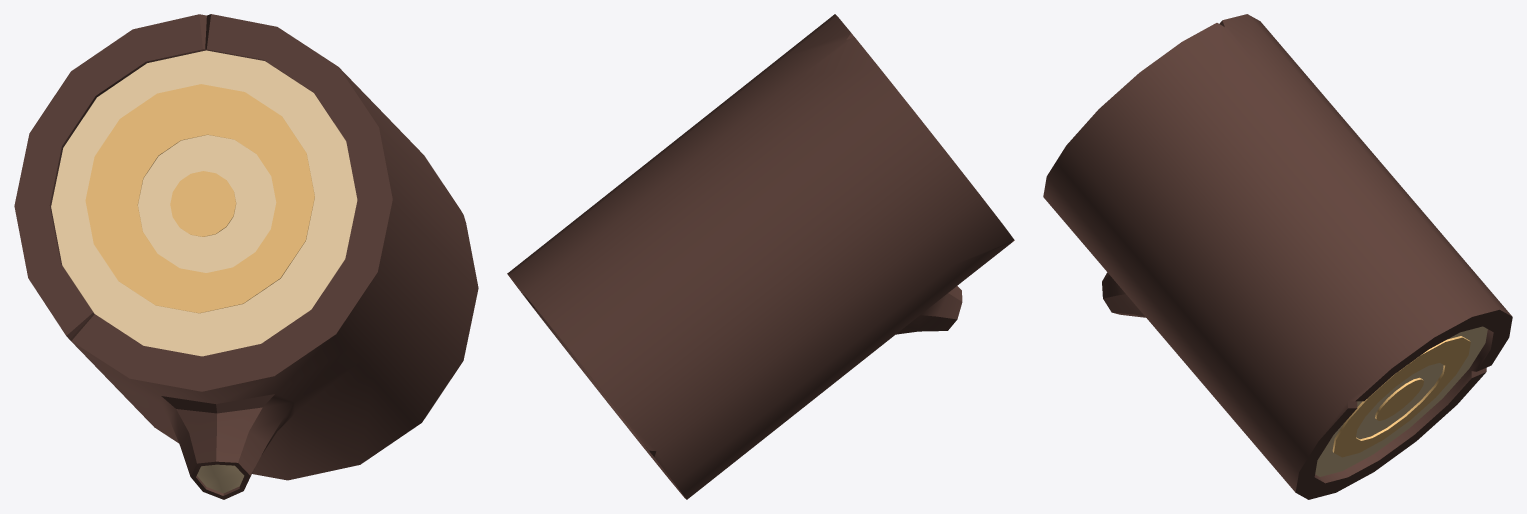
File: wood.fbx
3 views of the same model, side by side, from view 1: azimuth 30°, elevation 25°; view 2: azimuth 150°, elevation 25°; view 3: azimuth 270°, elevation 25° (orthographic). The views are drawn at different scales.
Parts seen in each view (by area): view 1: Circle.2345; view 2: Circle.2345; view 3: Circle.2345.
Part boxes in pixels (left/top/right/bottom): Circle.2345: left=14, top=14, right=478, bottom=499; Circle.2345: left=507, top=14, right=1014, bottom=499; Circle.2345: left=1043, top=14, right=1512, bottom=499.
Bounding box in the file's own units: 194 × 195 × 201.
Materials: 1 (1 with a texture image).
